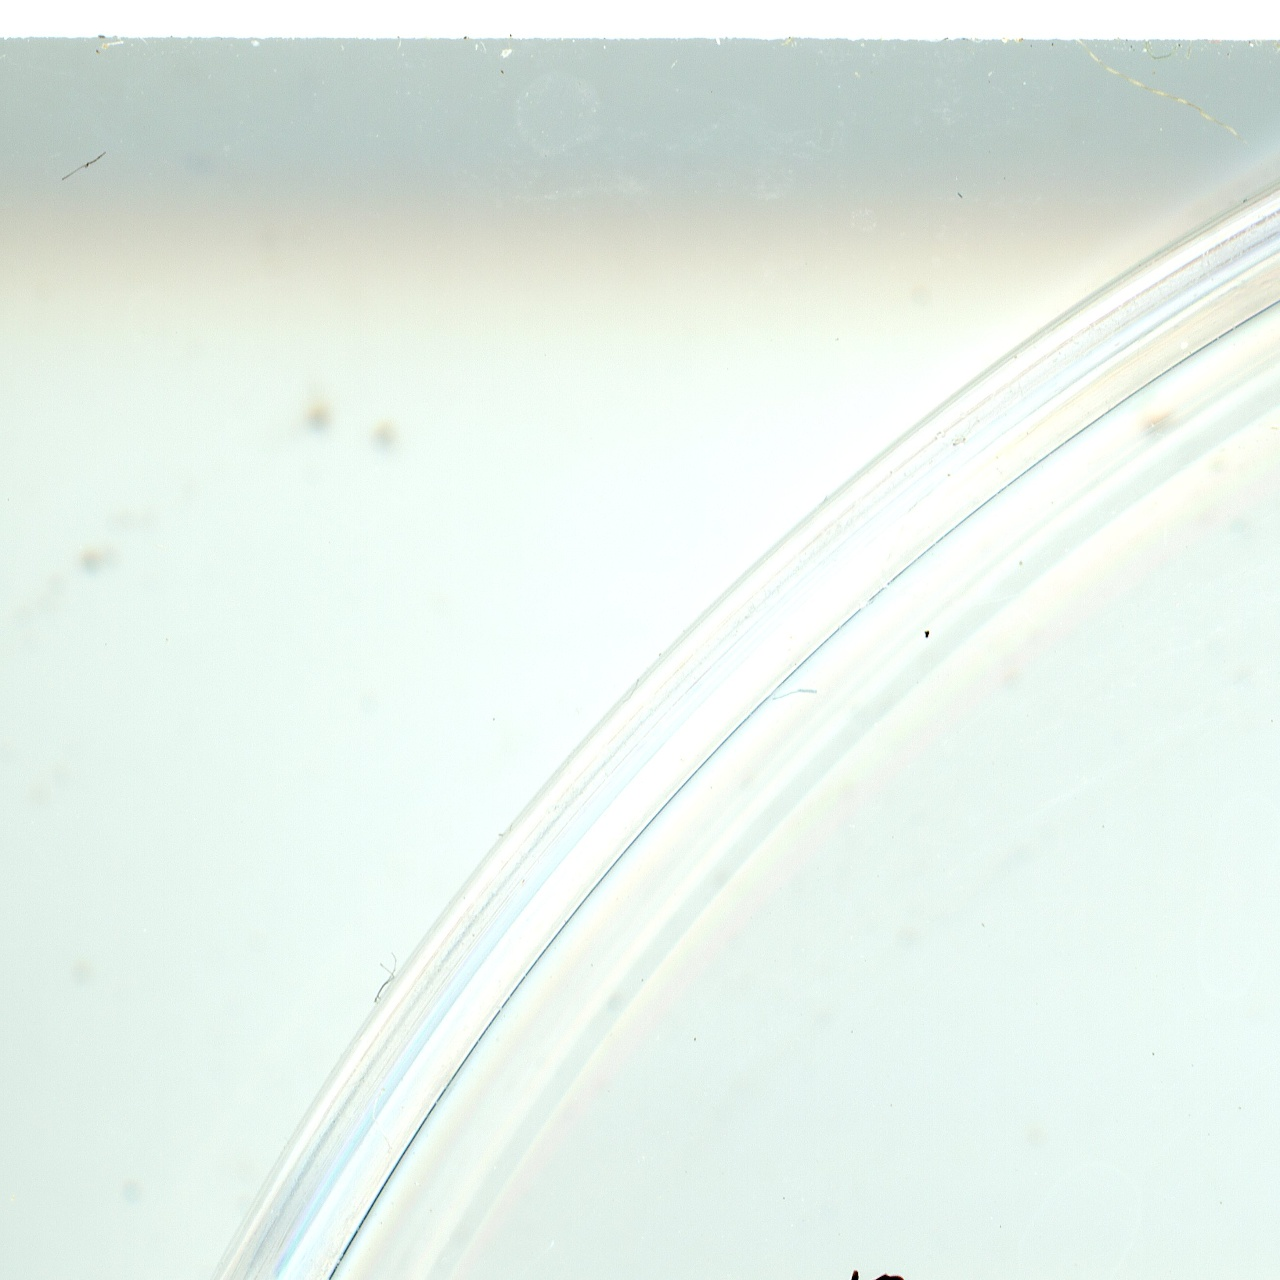arthropod: (745, 1254, 907, 1280)
